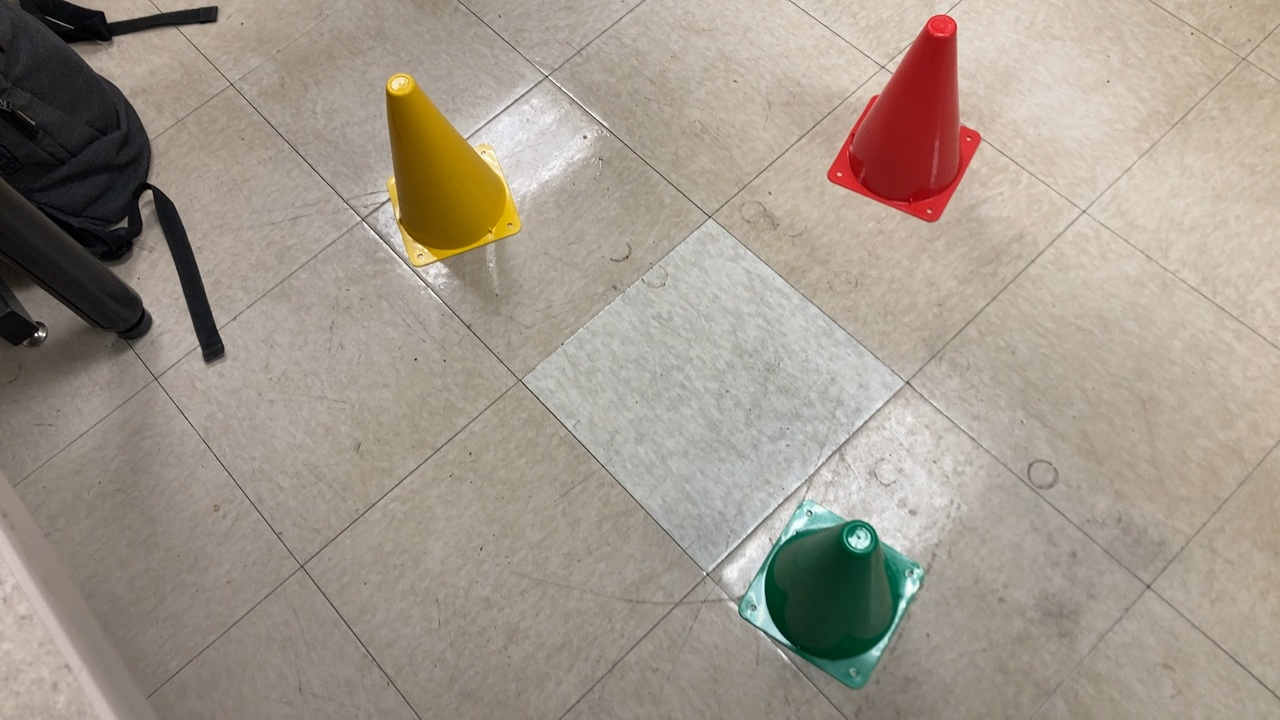green_cone: (733, 494, 932, 700)
red_cone: (825, 12, 988, 229)
yellow_cone: (376, 70, 527, 269)
